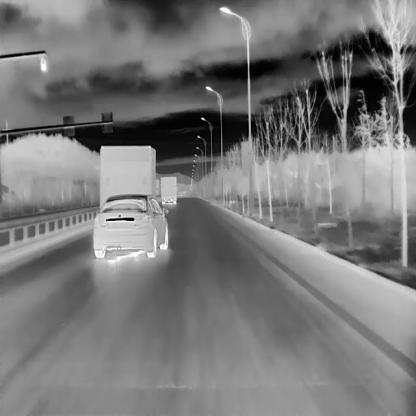car: (99, 144, 158, 232), (93, 193, 168, 258), (160, 176, 176, 204)
